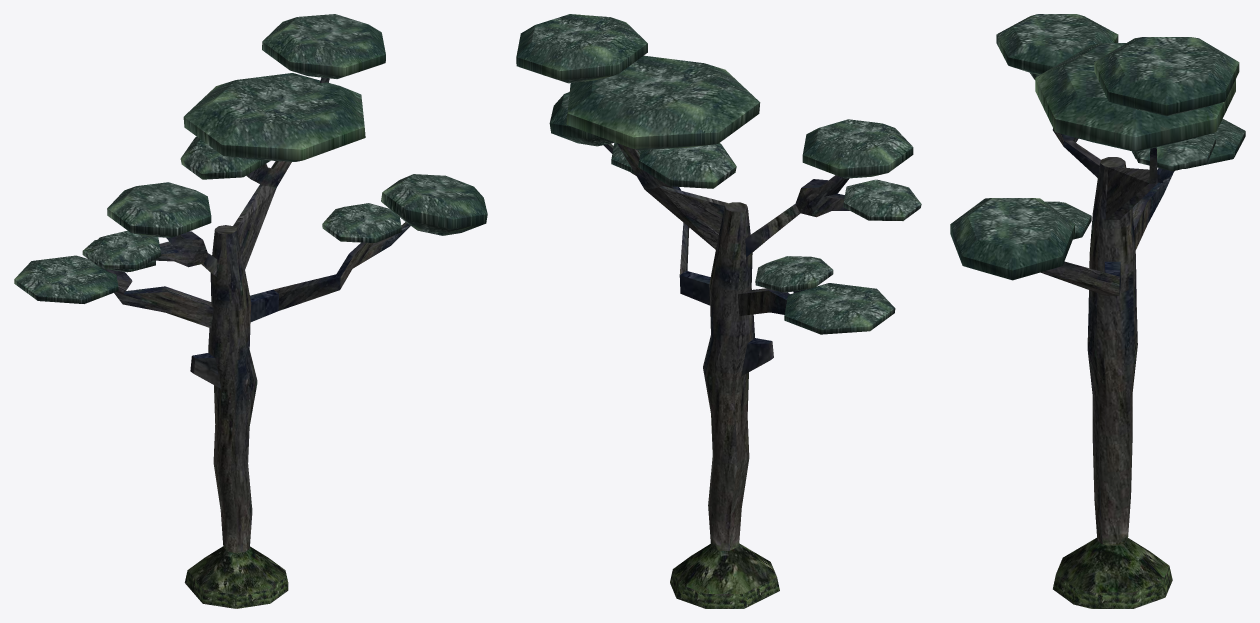
Rendered from cay-phi-lao.glb.
3 views of the same model, side by side, from view 1: azimuth 30°, elevation 25°; view 2: azimuth 150°, elevation 25°; view 3: azimuth 270°, elevation 25° (orthographic). The views are drawn at different scales.
Visible parts, largest first — view 1: NaD068_Phi_Lao__Nha_Vuon_Duc_Chung; view 2: NaD068_Phi_Lao__Nha_Vuon_Duc_Chung; view 3: NaD068_Phi_Lao__Nha_Vuon_Duc_Chung.
Part boxes in pixels (x1,y1,x2,y2): NaD068_Phi_Lao__Nha_Vuon_Duc_Chung: [14, 14, 487, 608]; NaD068_Phi_Lao__Nha_Vuon_Duc_Chung: [516, 14, 921, 608]; NaD068_Phi_Lao__Nha_Vuon_Duc_Chung: [950, 14, 1245, 608].
Size of the model in its own units: 4.05 by 5.16 by 2.33.
Materials: 1 (1 with a texture image).
